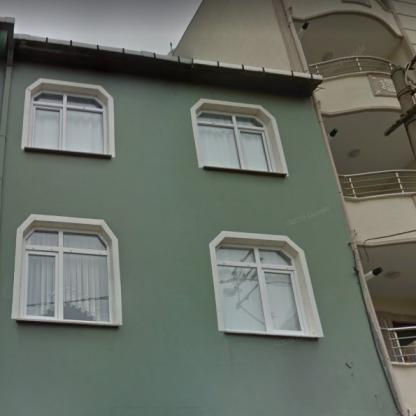window: (24, 229, 112, 322), (216, 245, 304, 333), (197, 112, 272, 171), (31, 92, 103, 152)
